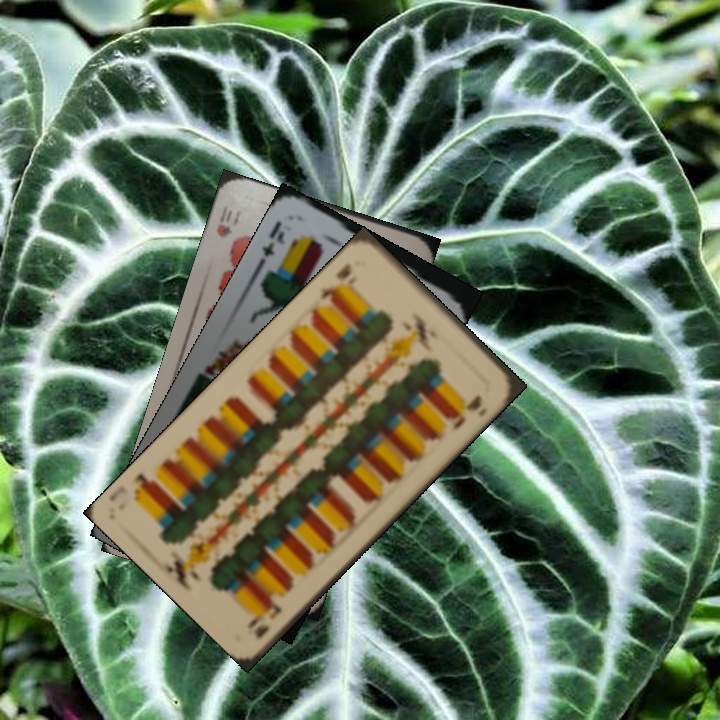E10: (316, 259, 360, 307), (243, 596, 285, 642)
EK: (254, 216, 288, 268)
H10: (212, 201, 243, 241)
